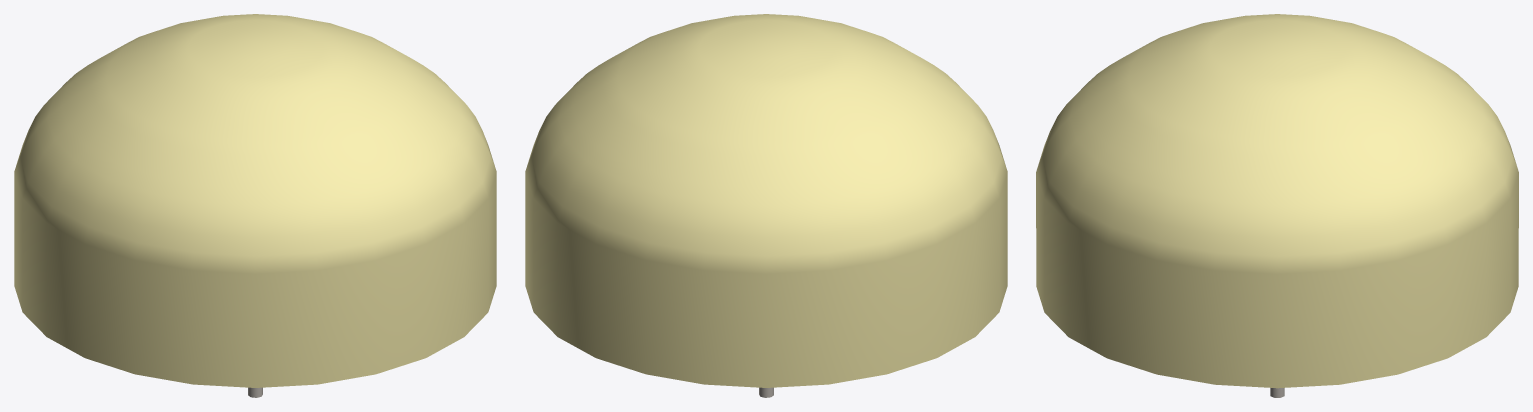
Rendered from ParkinsoniaAculeata.glb.
The picture shows the model from 3 angles, left to right: view 1: azimuth 30°, elevation 25°; view 2: azimuth 150°, elevation 25°; view 3: azimuth 270°, elevation 25°; orthographic projection.
Visible parts, largest first — view 1: Palo_Verde__Schematic_LOD3; view 2: Palo_Verde__Schematic_LOD3; view 3: Palo_Verde__Schematic_LOD3.
Boxes of the visible parts, x1=… form: Palo_Verde__Schematic_LOD3: x1=14, y1=14, x2=496, y2=397; Palo_Verde__Schematic_LOD3: x1=525, y1=14, x2=1007, y2=397; Palo_Verde__Schematic_LOD3: x1=1036, y1=14, x2=1518, y2=397.
Bounding box in the file's own units: 9.54 × 7.67 × 9.54.
